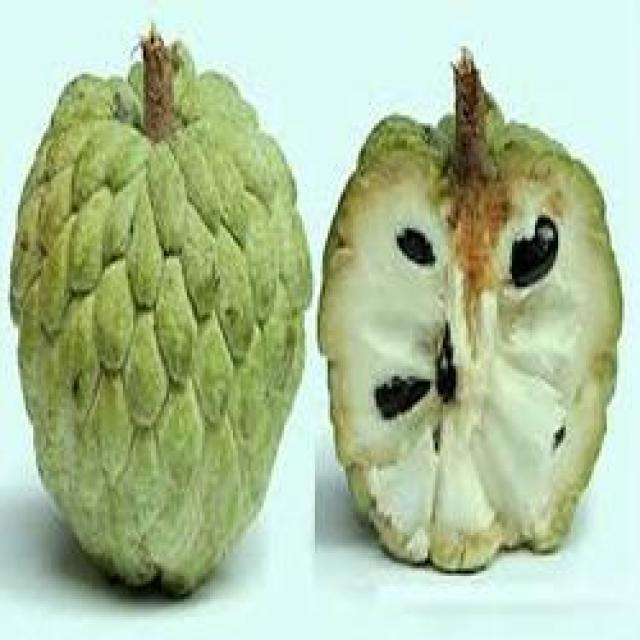apple: (5, 26, 315, 602), (320, 39, 640, 581)
